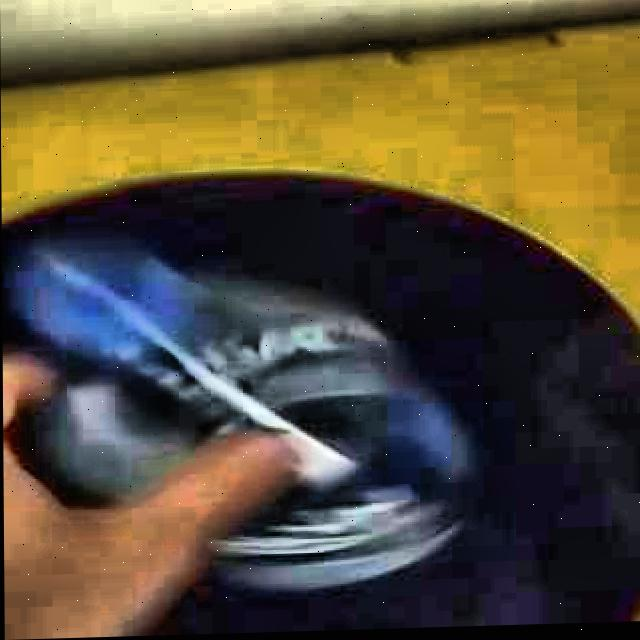plastic: (21, 247, 480, 586)
